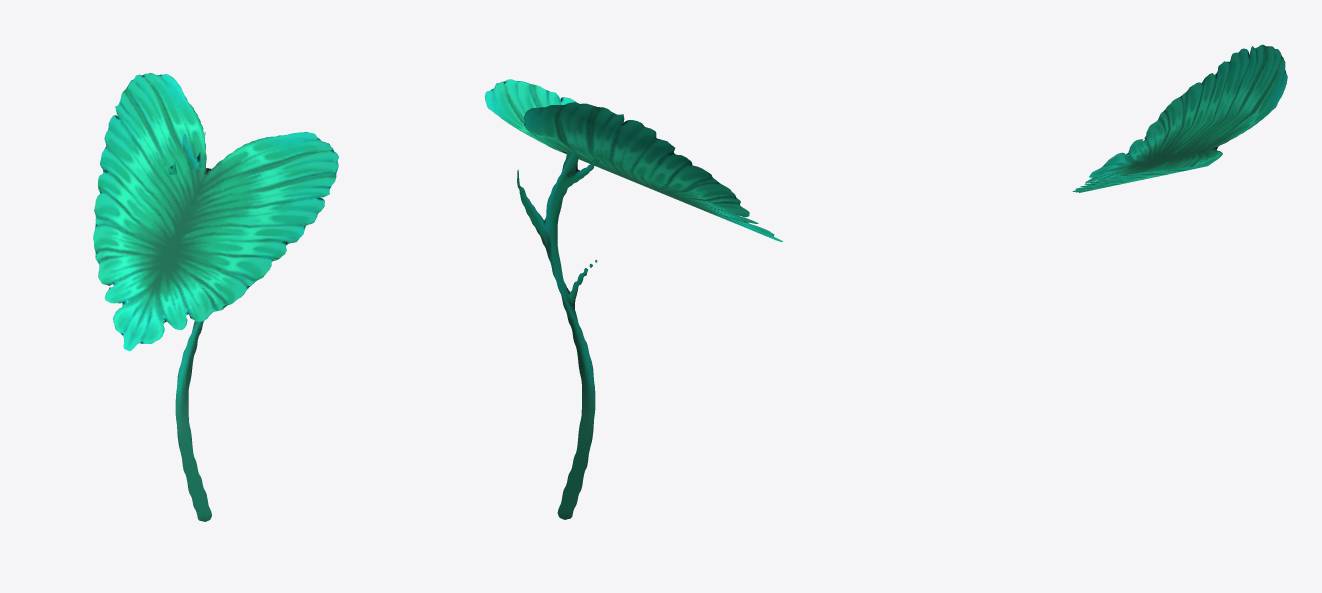
Rendered from BigLeaf_01.fbx.
3 views of the same model, side by side, from view 1: azimuth 30°, elevation 25°; view 2: azimuth 150°, elevation 25°; view 3: azimuth 270°, elevation 25° (orthographic). The views are drawn at different scales.
Parts seen in each view (by area): view 1: Green Stem004; view 2: Green Stem004; view 3: Green Stem004.
Part boxes in pixels (x1,y1,x2,y2): Green Stem004: [93, 73, 338, 521]; Green Stem004: [484, 79, 782, 519]; Green Stem004: [1072, 44, 1287, 192].
Size of the model in its own units: 25.39 by 30.45 by 21.86.
